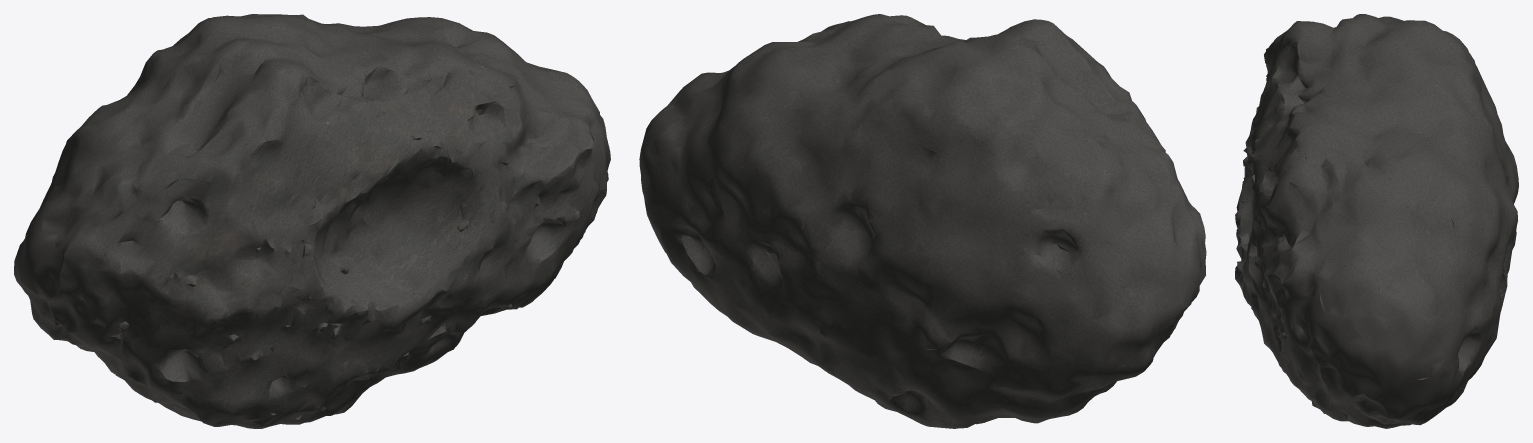
The model's file is carbonaceous_asteroid_01_rounded.glb.
3 views of the same model, side by side, from view 1: azimuth 30°, elevation 25°; view 2: azimuth 150°, elevation 25°; view 3: azimuth 270°, elevation 25° (orthographic). The views are drawn at different scales.
Visible parts, largest first — view 1: mesh_node; view 2: mesh_node; view 3: mesh_node.
Boxes of the visible parts, bbox=[...] form: mesh_node: bbox=[14, 14, 610, 428]; mesh_node: bbox=[639, 14, 1206, 428]; mesh_node: bbox=[1235, 14, 1518, 428].
Bounding box in the file's own units: 2 × 1.32 × 0.9658.
1 material, 1 textured.
